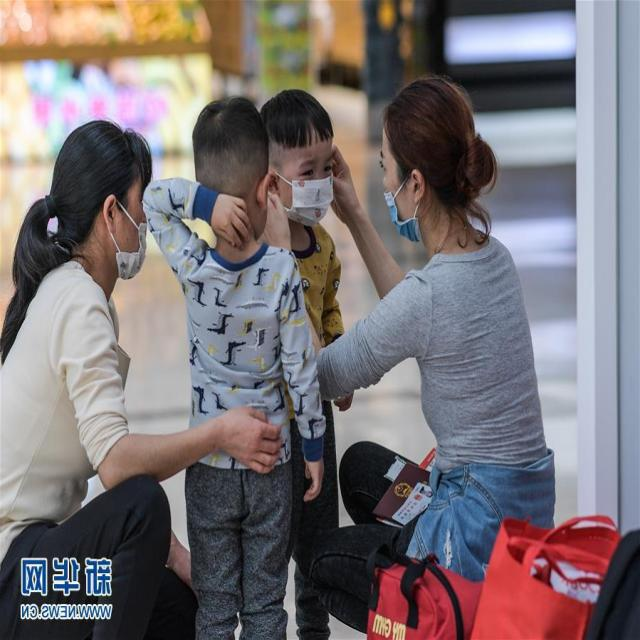face: (50, 106, 162, 293), (376, 74, 494, 249), (261, 84, 346, 232)
